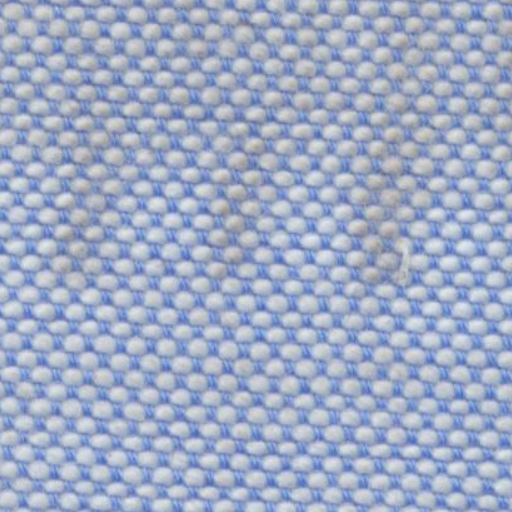WuZi: (12, 7, 496, 310)
